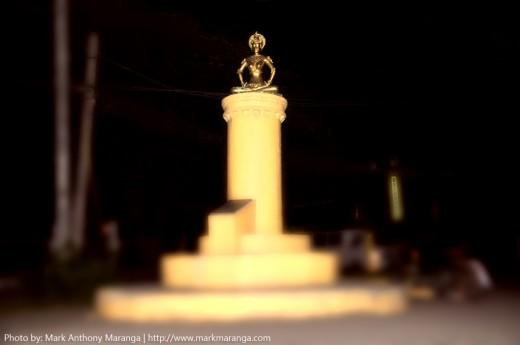golden_tara_of_agusan: (229, 30, 282, 95)
